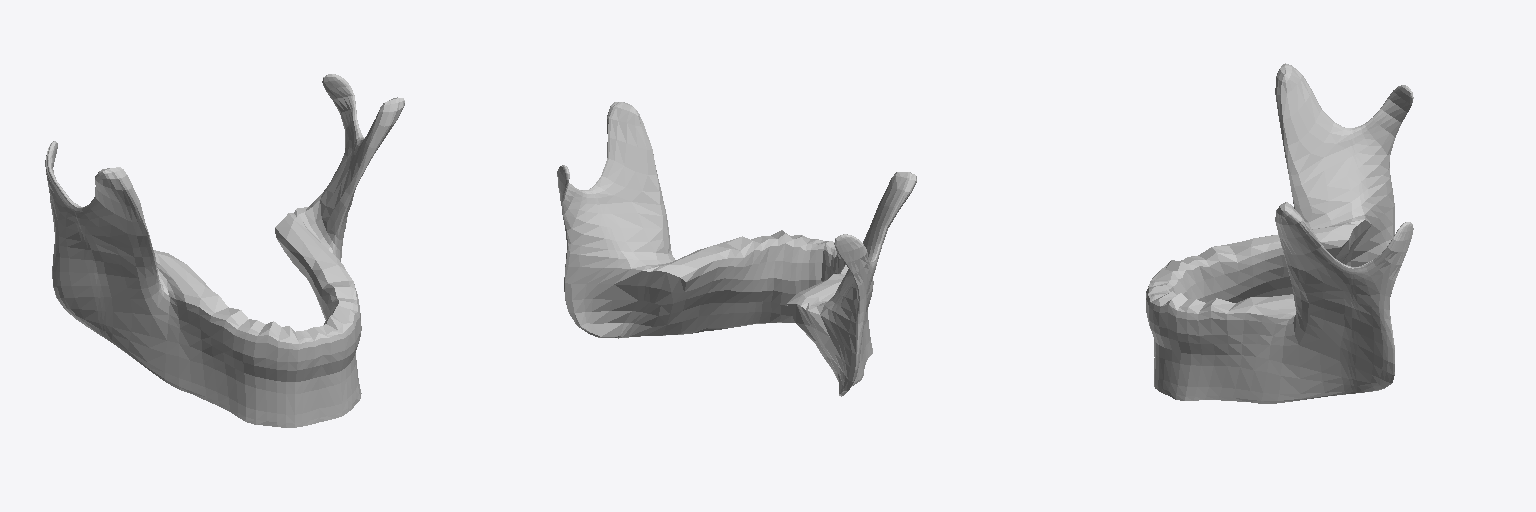
File: 白色头骨骷髅down.obj
3 views of the same model, side by side, from view 1: azimuth 30°, elevation 25°; view 2: azimuth 150°, elevation 25°; view 3: azimuth 270°, elevation 25° (orthographic).
Visible parts, largest first — view 1: Skull.003_Plane.002; view 2: Skull.003_Plane.002; view 3: Skull.003_Plane.002.
Boxes of the visible parts, box(x1,y1,x2,y2) form: Skull.003_Plane.002: box(45, 74, 404, 427); Skull.003_Plane.002: box(557, 102, 916, 396); Skull.003_Plane.002: box(1146, 63, 1413, 403).
Size of the model in its own units: 0.4608 by 0.345 by 0.3464.